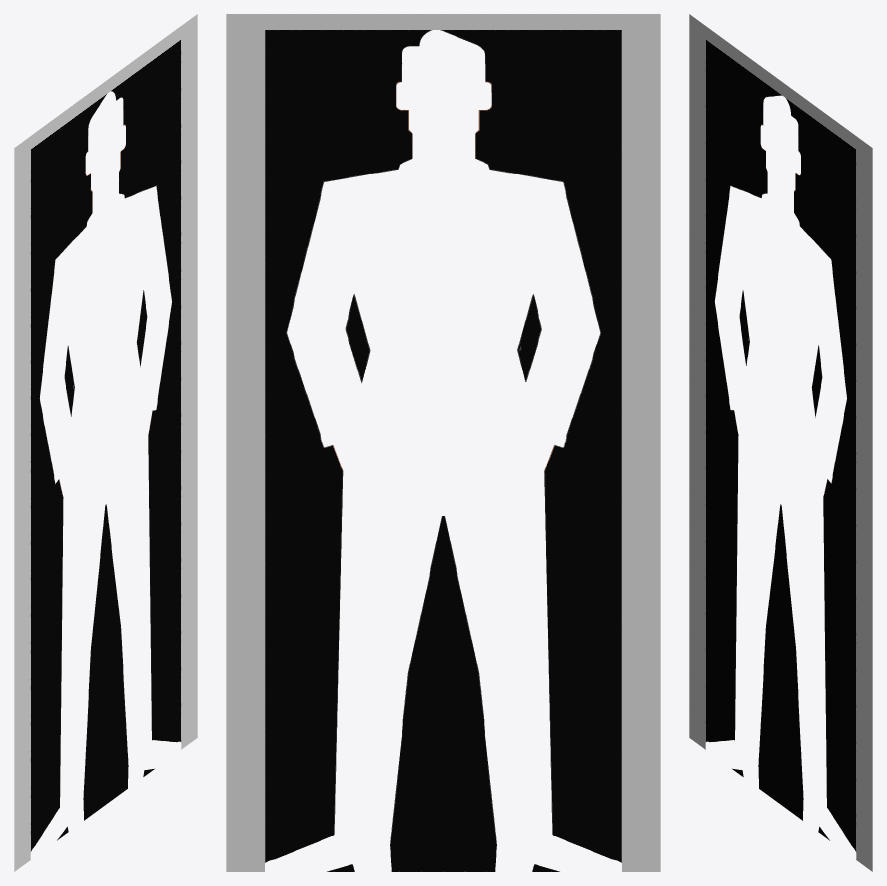
File: rick.dae
The picture shows the model from 3 angles, left to right: view 1: azimuth 30°, elevation 25°; view 2: azimuth 150°, elevation 25°; view 3: azimuth 270°, elevation 25°; orthographic projection. The views are drawn at different scales.
Visible parts, largest first — view 1: Rick_Gomez; view 2: Rick_Gomez; view 3: Rick_Gomez.
Boxes of the visible parts, bbox=[...] form: Rick_Gomez: bbox=[14, 14, 197, 871]; Rick_Gomez: bbox=[226, 14, 660, 871]; Rick_Gomez: bbox=[689, 14, 872, 871].
Size of the model in its own units: 121 by 304 by 69.75.
1 material, 1 textured.
